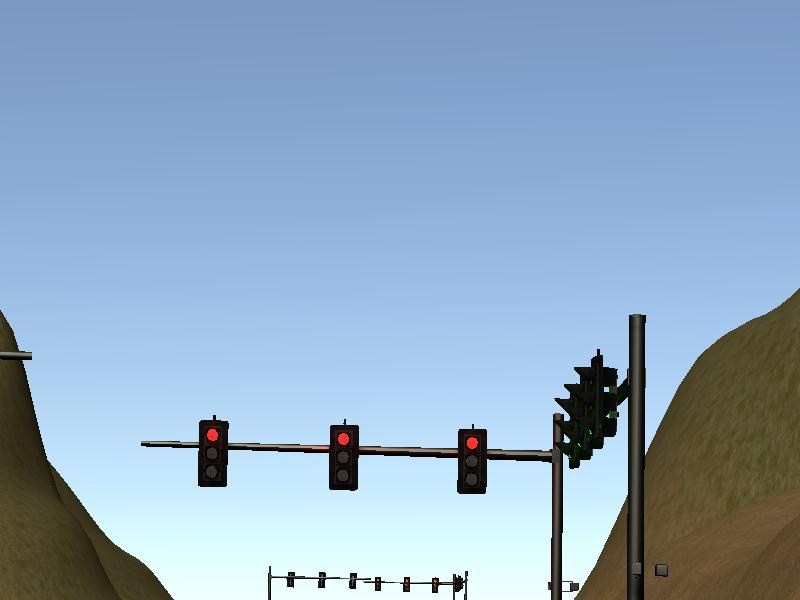Red: (455, 427, 489, 496), (327, 423, 361, 492), (196, 418, 230, 487)
